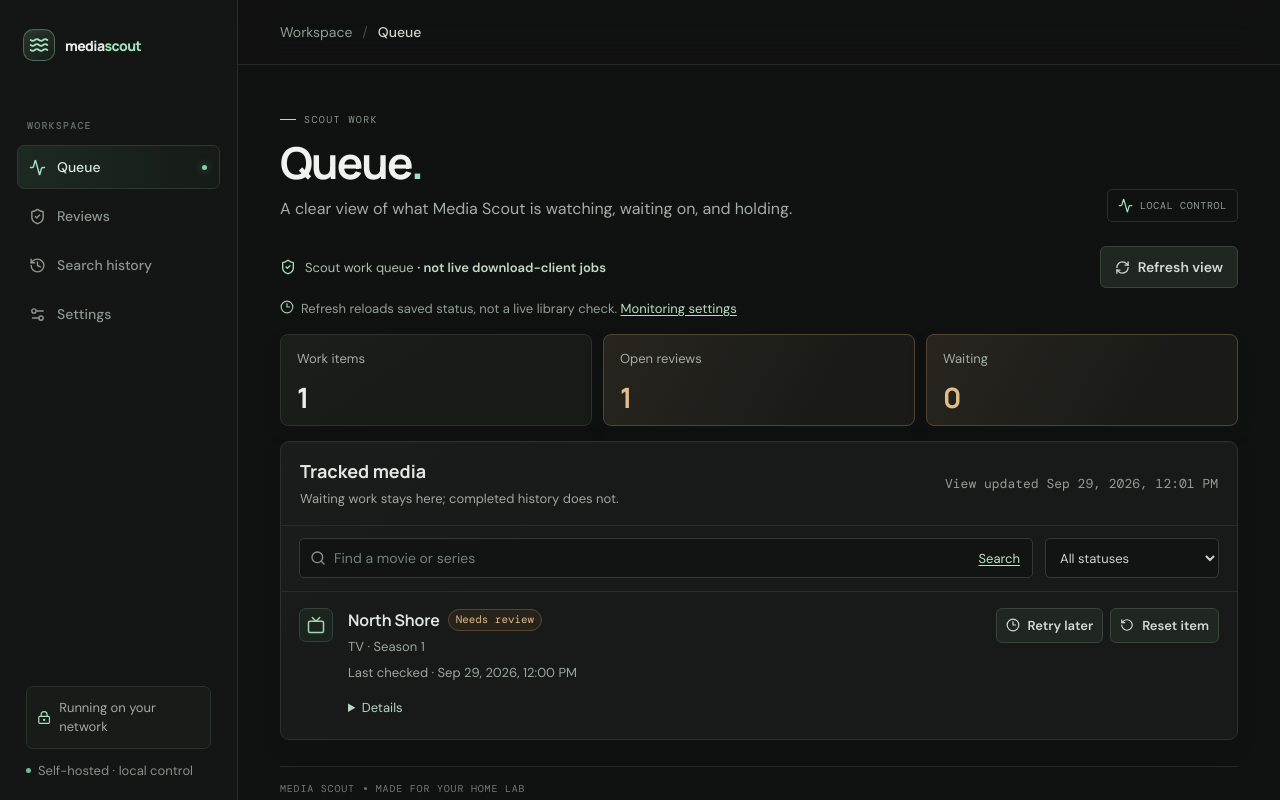
Scenario: operations dashboard › retains the last queue rows when refresh fails and labels the error
Expected: the heading "North Shore" is shown, [348, 608, 440, 632]
Click the button "Refresh view" at (1169, 268), box [1100, 246, 1238, 288]
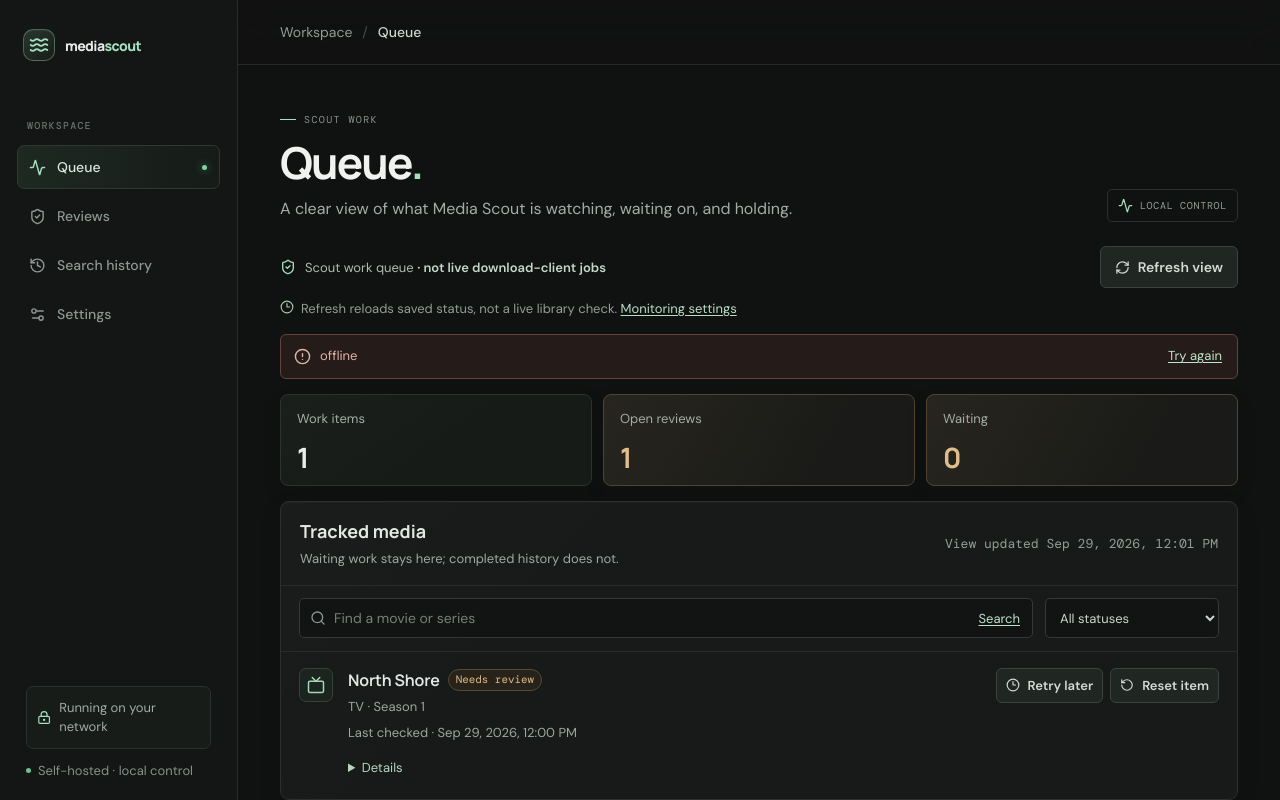
Expected: the heading "North Shore" is shown, [348, 668, 440, 692]
Expected: the message "offline Try again" is shown, [280, 334, 1238, 379]
Expected: the button "Try again" is shown, [1166, 346, 1224, 367]
